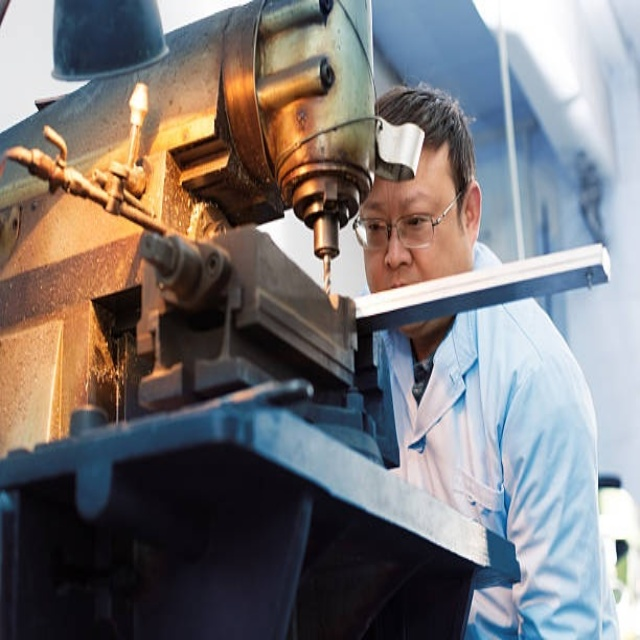Gafas: (354, 187, 463, 252)
